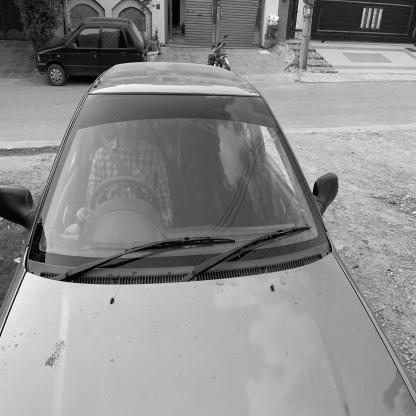seatbelt: (94, 119, 156, 204)
